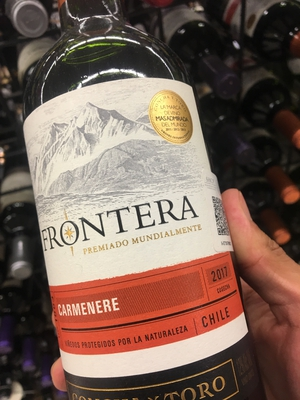frontera carmenere: (16, 16, 264, 400)
